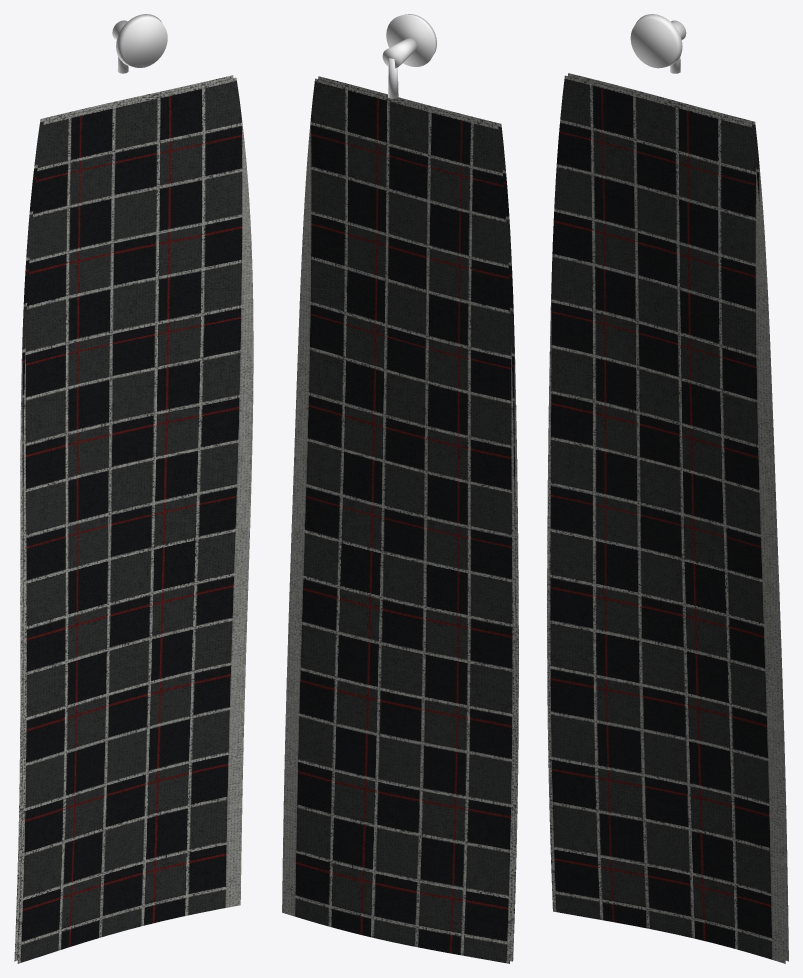
Rendered from recwBXgIvbnchDkl2.glb.
The picture shows the model from 3 angles, left to right: view 1: azimuth 30°, elevation 25°; view 2: azimuth 150°, elevation 25°; view 3: azimuth 330°, elevation 25°; orthographic projection. The views are drawn at different scales.
Parts seen in each view (by area): view 1: essuie_mains_wc_etage_Corps002, essuie_mains_wc_etage_Corps002_1; view 2: essuie_mains_wc_etage_Corps002, essuie_mains_wc_etage_Corps002_1; view 3: essuie_mains_wc_etage_Corps002, essuie_mains_wc_etage_Corps002_1.
Boxes of the visible parts, x1=… form: essuie_mains_wc_etage_Corps002: x1=14, y1=75, x2=253, y2=963; essuie_mains_wc_etage_Corps002_1: x1=112, y1=14, x2=167, y2=73; essuie_mains_wc_etage_Corps002: x1=282, y1=76, x2=518, y2=963; essuie_mains_wc_etage_Corps002_1: x1=382, y1=14, x2=436, y2=98; essuie_mains_wc_etage_Corps002: x1=547, y1=73, x2=788, y2=963; essuie_mains_wc_etage_Corps002_1: x1=630, y1=14, x2=686, y2=73.
Size of the model in its own units: 0.24 by 0.936 by 0.045.
Materials: 2 (1 with a texture image).
